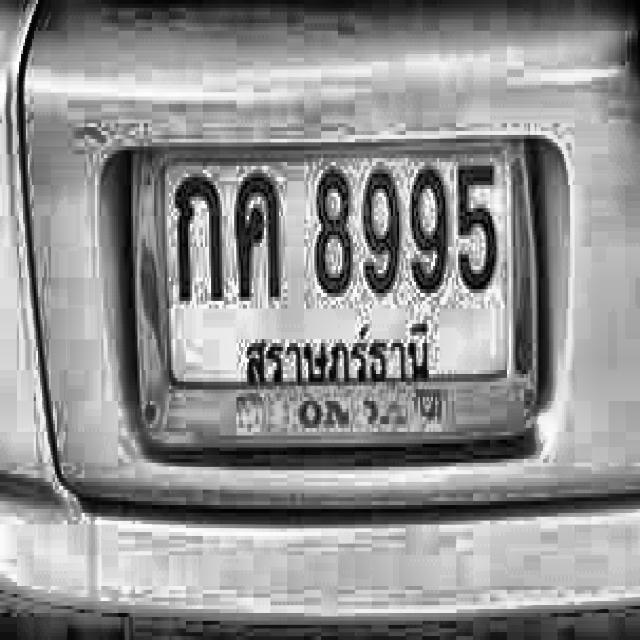license-plate: (137, 137, 540, 439)
